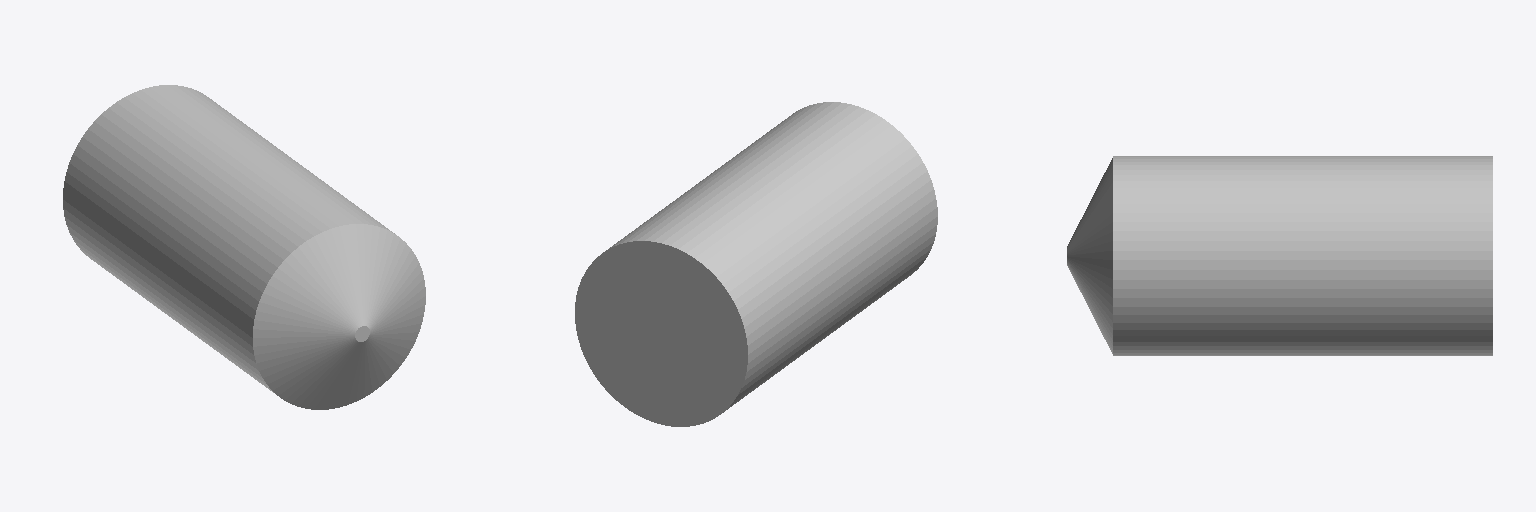
File: Candle5b.obj
3 renders of one model, left to right at view 1: azimuth 30°, elevation 25°; view 2: azimuth 150°, elevation 25°; view 3: azimuth 270°, elevation 25°, orthographic.
Parts seen in each view (by area): view 1: Candle5b_Cylinder.013; view 2: Candle5b_Cylinder.013; view 3: Candle5b_Cylinder.013.
Boxes of the visible parts, <box> form: Candle5b_Cylinder.013: <box>63,85,425,409</box>; Candle5b_Cylinder.013: <box>575,102,937,426</box>; Candle5b_Cylinder.013: <box>1067,156,1492,355</box>.
Bounding box in the file's own units: 0.0746 × 0.0746 × 0.1589.